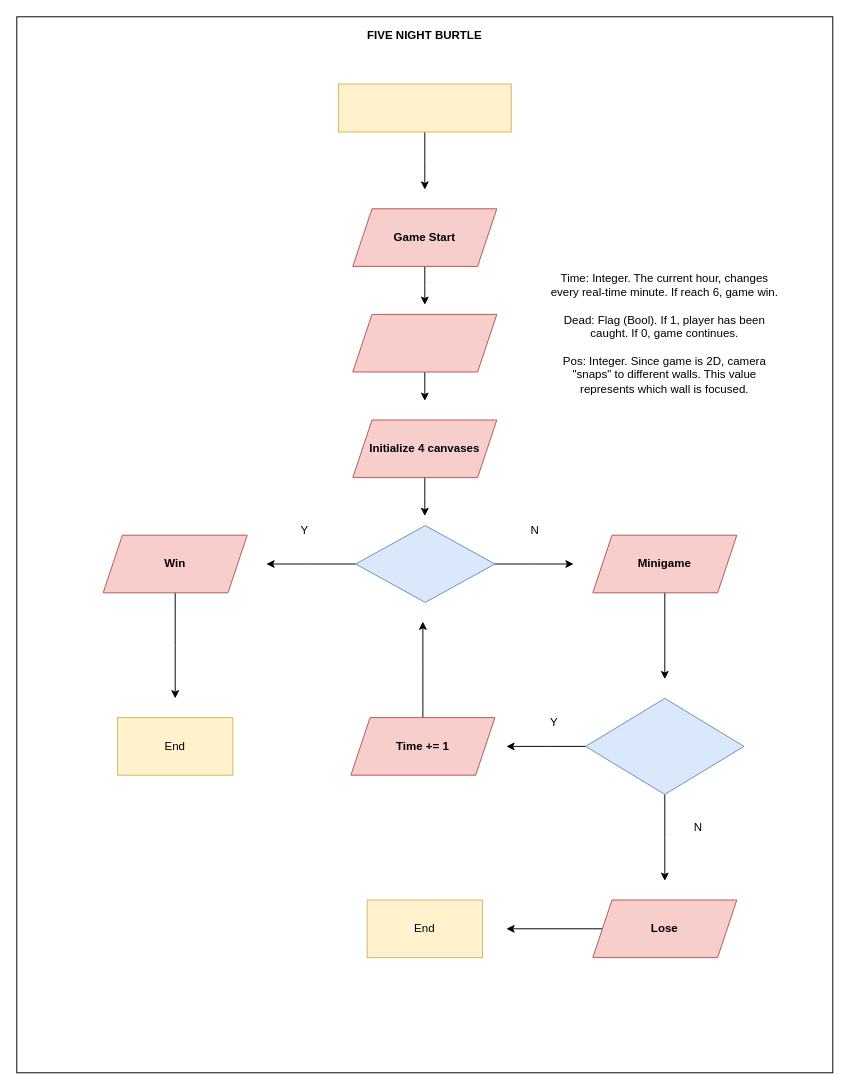
Image size: 850x1090. Some labels were removed from this diagram. Here are the shapes that lost their labels. From the top down, the centre of each, then its label:
(424,107): Gameplay loop
(424,342): Time = 0 Dead = 0 Pos = 0
(425,563): Time = 6?
(664,745): Survived Minigame?
